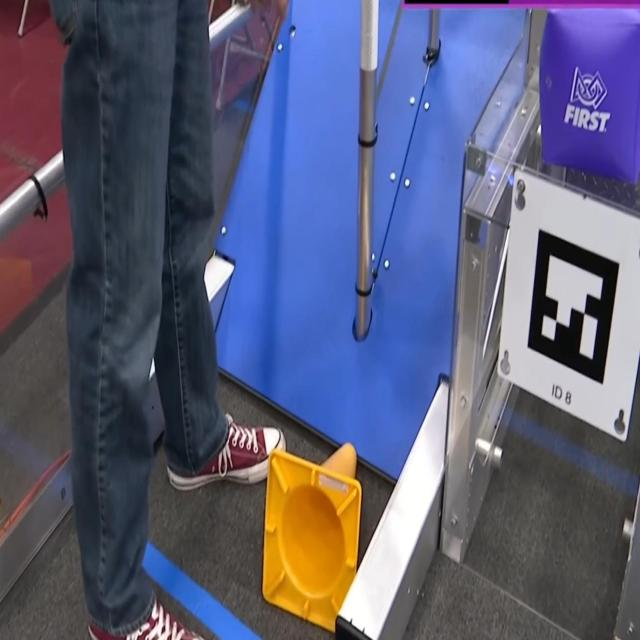frc_cone: (264, 440, 361, 635)
frc_cube: (540, 0, 640, 178)
